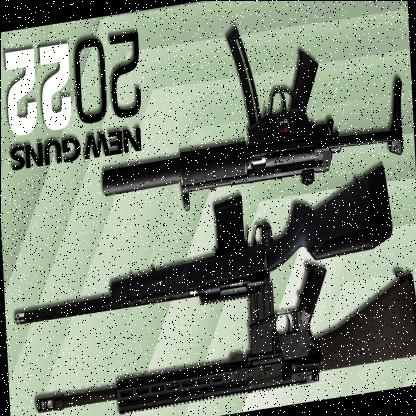rifle: (9, 171, 397, 334), (24, 270, 416, 416), (155, 34, 405, 209)
